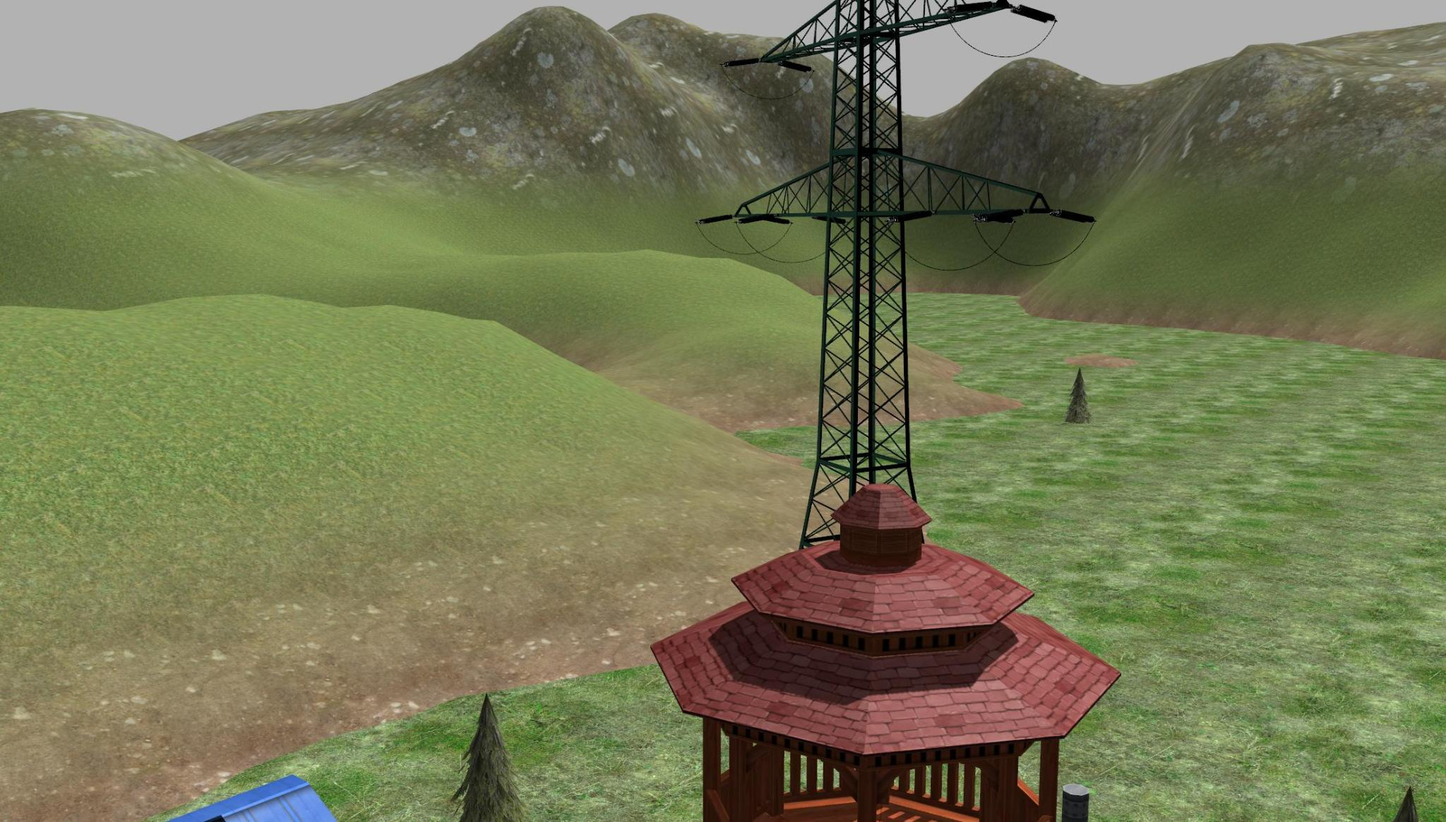tower: (729, 0, 1034, 502)
